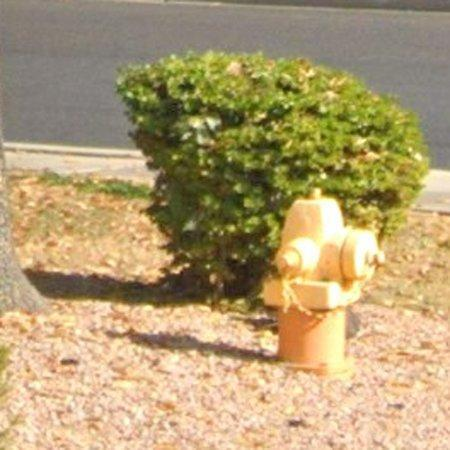a fire hydrant: (264, 189, 385, 374)
